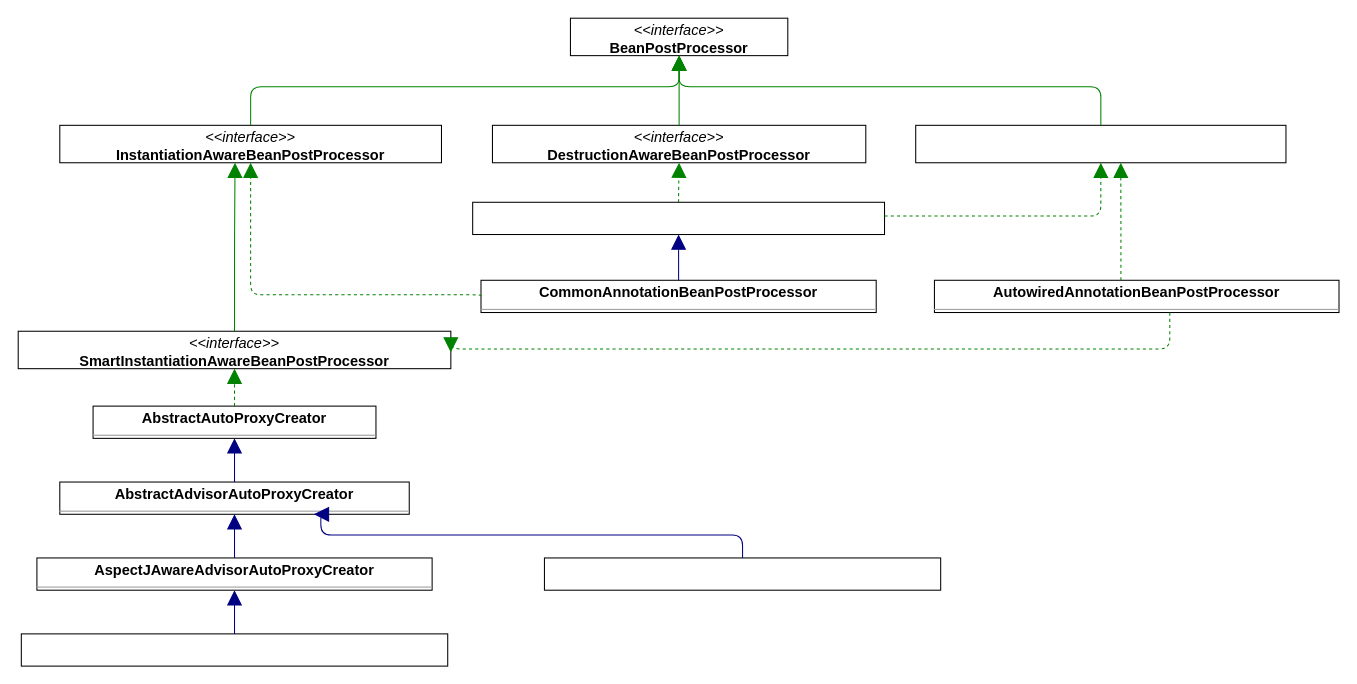
This 1357x684 diagram has some shape labels left out. The shapes that lost their labels are listed below. From the top down, each one's centre as x and y in pixels, then its label:
(x=1100, y=143): <<interface>> MergedBeanDefinitionPostProcessor
(x=678, y=218): InitDestroyAnnotationBeanPostProcessor
(x=742, y=573): InfrastructureAdvisorAutoProxyCreator
(x=234, y=649): AnnotationAwareAspectJAutoProxyCreator
